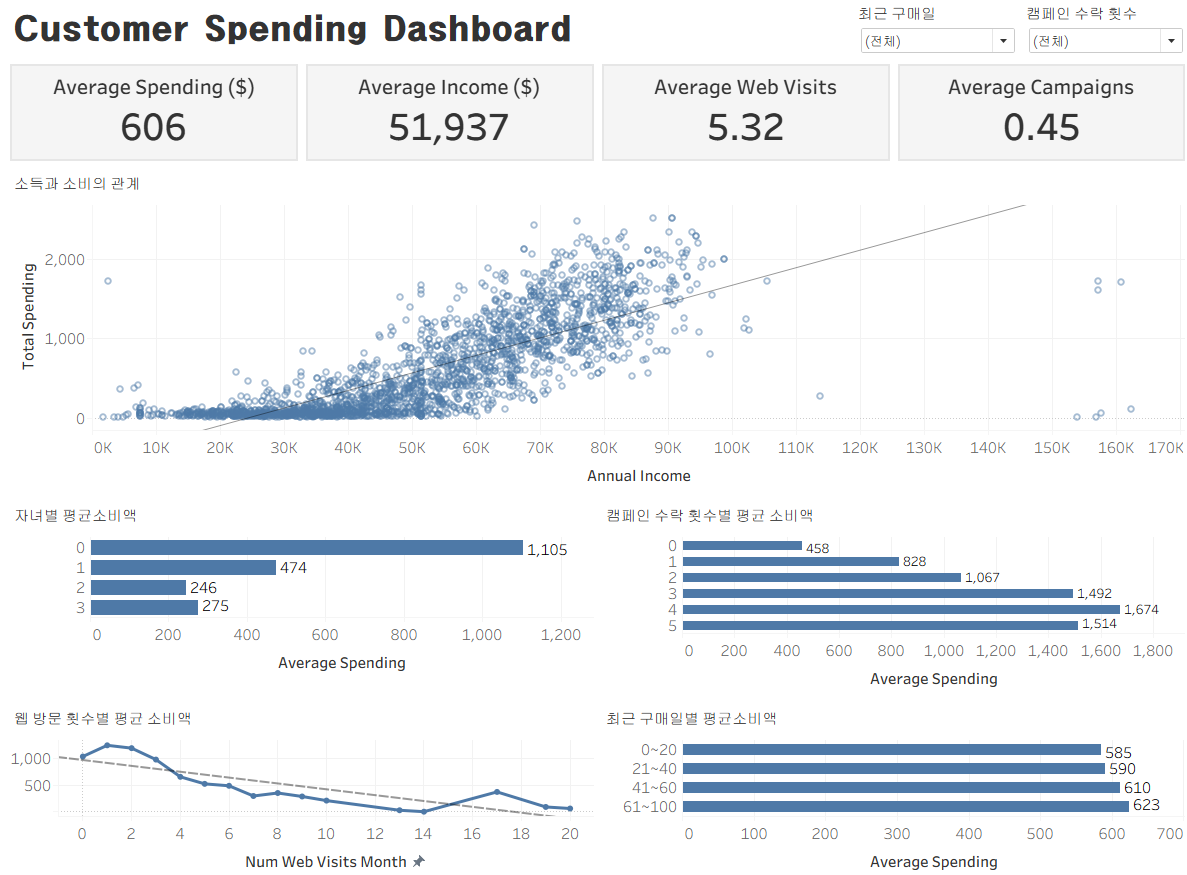

The page's visual inventory and layout, read from the dashboard file:
{"tool":"tableau","page":{"name":"대시보드 1","canvas":[1200,900],"ordinal":0},"visuals":[{"type":"title","box":[8,8,848,61]},{"type":"filter","title":"소득과 소비의 관계","param":"[federated.0dba6ds070xera1efzhzq1t68sd2].[Action (Recency Group)]","box":[856,8,168,61]},{"type":"filter","title":"소득과 소비의 관계","param":"[federated.0dba6ds070xera1efzhzq1t68sd2].[Action (Total Campaigns Accepted)]","box":[1024,8,168,61]},{"type":"worksheet","title":"평균 소비액","mark":"Text","box":[8,69,296,105]},{"type":"worksheet","title":"평균 소득","mark":"Text","box":[304,69,296,105]},{"type":"worksheet","title":"시트 11","mark":"Automatic","box":[600,69,296,105]},{"type":"worksheet","title":"평균 캠페인 수락","mark":"Text","box":[896,69,296,105]},{"type":"worksheet","title":"소득과 소비의 관계","mark":"Automatic","rows":["Total_Spending"],"cols":["Income"],"box":[8,174,1184,332]},{"type":"worksheet","title":"자녀 수별 평균소비액","mark":"Automatic","rows":["TotalChildren"],"cols":["Total_Spending"],"box":[8,506,592,203]},{"type":"worksheet","title":"캠페인 수락 횟수별 평균 소비액","mark":"Automatic","rows":["TotalCampaignsAccepted"],"cols":["Total_Spending"],"box":[600,506,592,203]},{"type":"worksheet","title":"웹 방문 횟수별 평균 소비액","mark":"Line","rows":["Total_Spending"],"cols":["NumWebVisitsMonth"],"box":[8,709,592,183]},{"type":"worksheet","title":"최근 구매일별 평균소비액","mark":"Automatic","rows":["Calculation_0224874024345600"],"cols":["Total_Spending"],"box":[600,709,592,183]}]}

Visuals, with their boxes in screenshot pixels (x1, y1, x2, y2), scaled from the page's 1200x900 canvas onto the 1187x875 screenshot:
title: <bbox>8, 8, 847, 67</bbox>
"소득과 소비의 관계" filter: <bbox>847, 8, 1013, 67</bbox>
"소득과 소비의 관계" filter: <bbox>1013, 8, 1179, 67</bbox>
"평균 소비액" worksheet (Text marks): <bbox>8, 67, 301, 169</bbox>
"평균 소득" worksheet (Text marks): <bbox>301, 67, 594, 169</bbox>
"시트 11" worksheet: <bbox>594, 67, 886, 169</bbox>
"평균 캠페인 수락" worksheet (Text marks): <bbox>886, 67, 1179, 169</bbox>
"소득과 소비의 관계" worksheet: <bbox>8, 169, 1179, 492</bbox>
"자녀 수별 평균소비액" worksheet: <bbox>8, 492, 594, 689</bbox>
"캠페인 수락 횟수별 평균 소비액" worksheet: <bbox>594, 492, 1179, 689</bbox>
"웹 방문 횟수별 평균 소비액" worksheet (Line marks): <bbox>8, 689, 594, 867</bbox>
"최근 구매일별 평균소비액" worksheet: <bbox>594, 689, 1179, 867</bbox>
